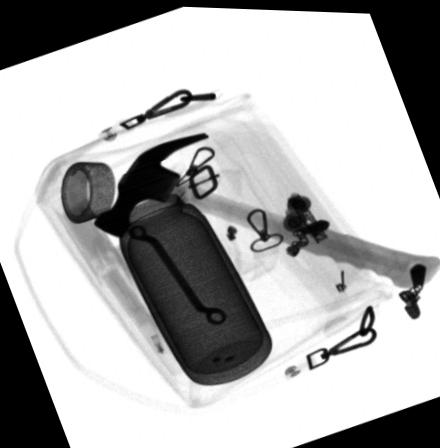Hammer: (92, 129, 440, 287)
Wrench: (127, 222, 225, 322)
